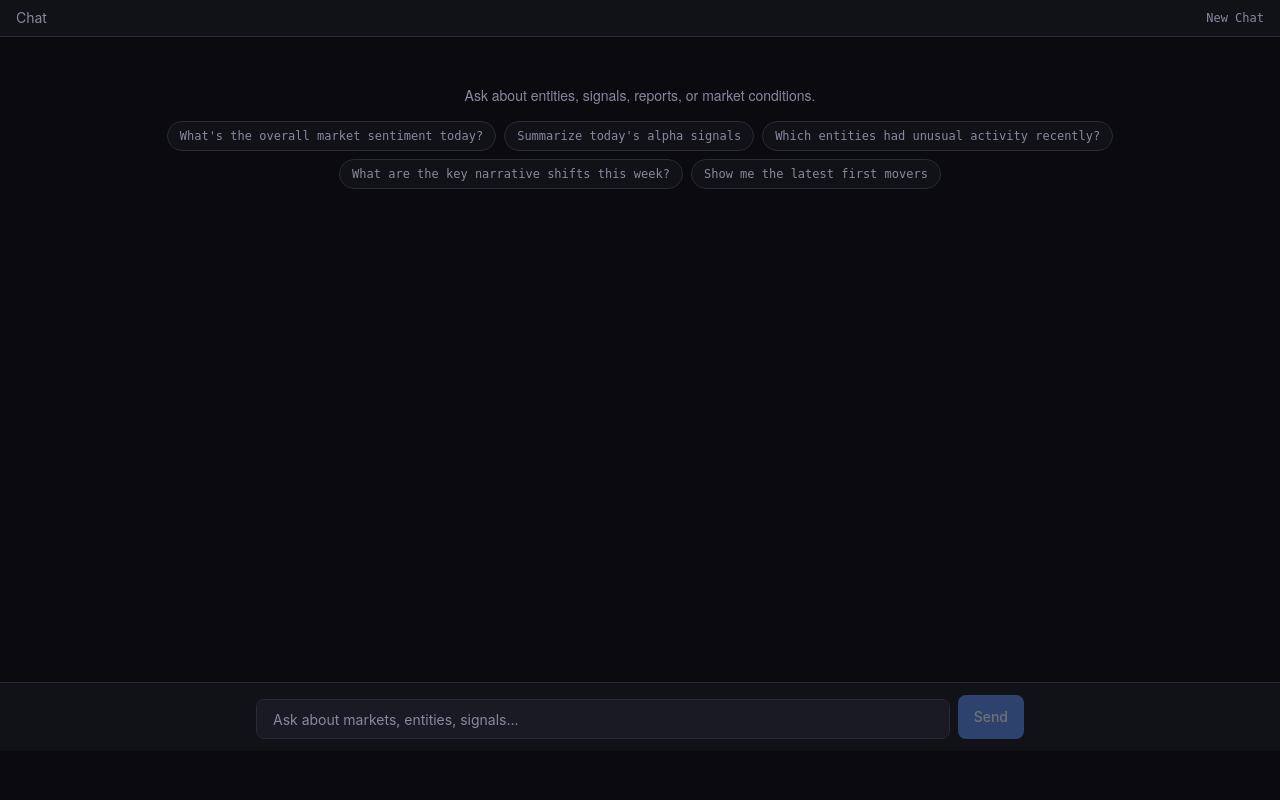
Chat › keeps New Chat clickable during an in-flight request
Type "Show me the latest ETH flow" into the text box named "Chat message input" at [603, 719], box [256,699,950,739]
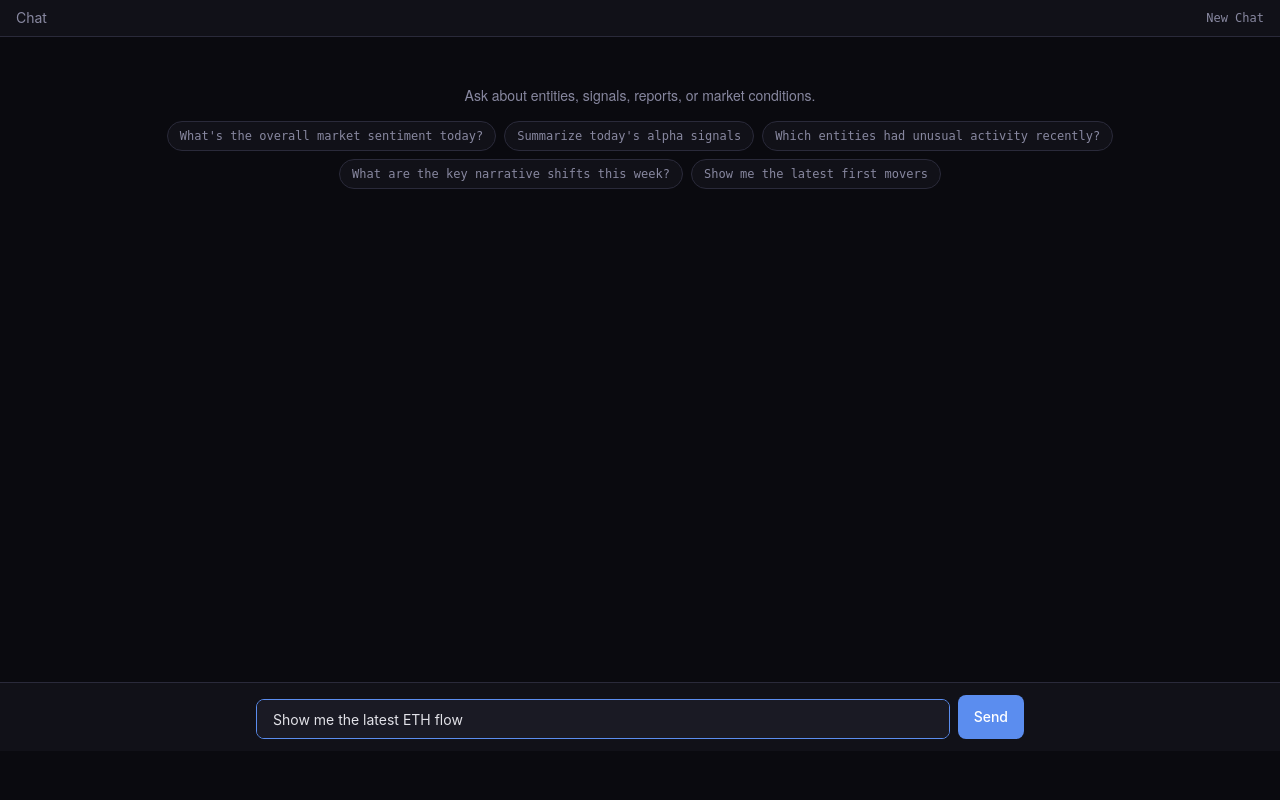
Click the button with aria-label "Send message" at [991, 717], box [958,695,1024,739]
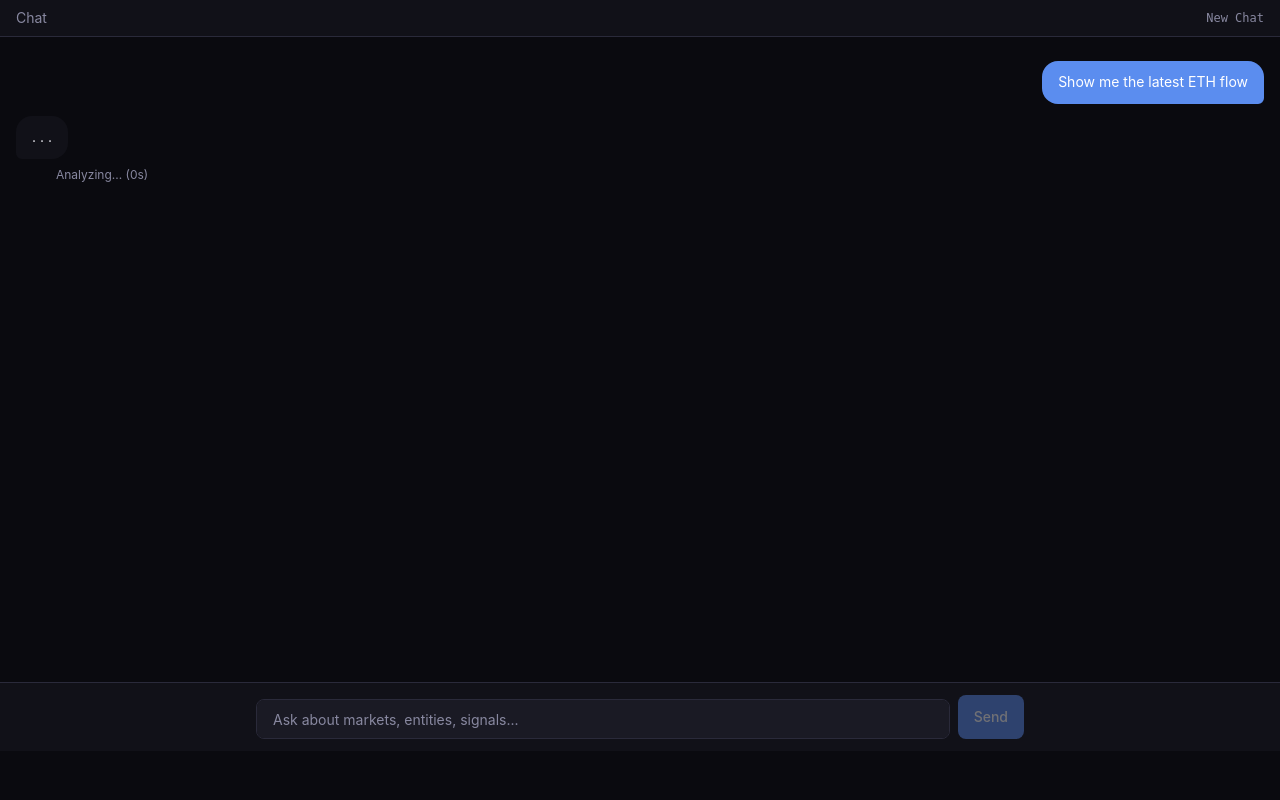
Expected: the button with aria-label "Start new chat conversation" is enabled, [1206,10,1264,26]
Expected: the text "Analyzing... (0s)" is shown, [56,166,148,182]
